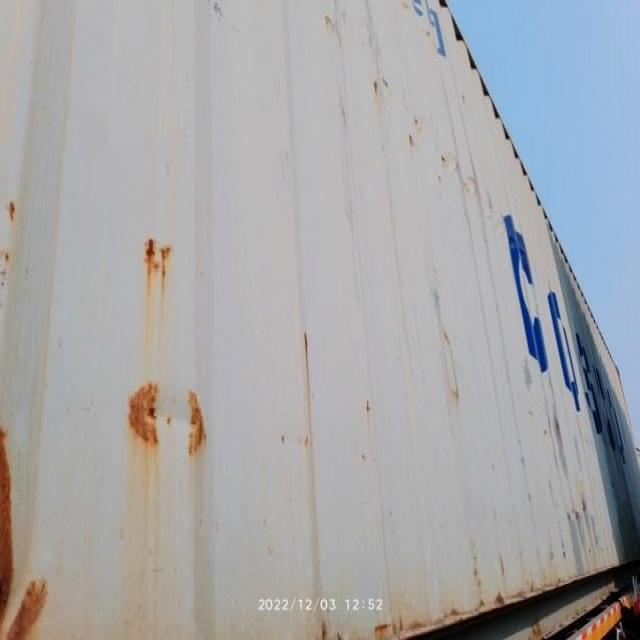rust: (135, 384, 161, 449), (191, 404, 215, 449), (1, 441, 7, 612), (150, 240, 169, 279), (24, 587, 39, 633)
